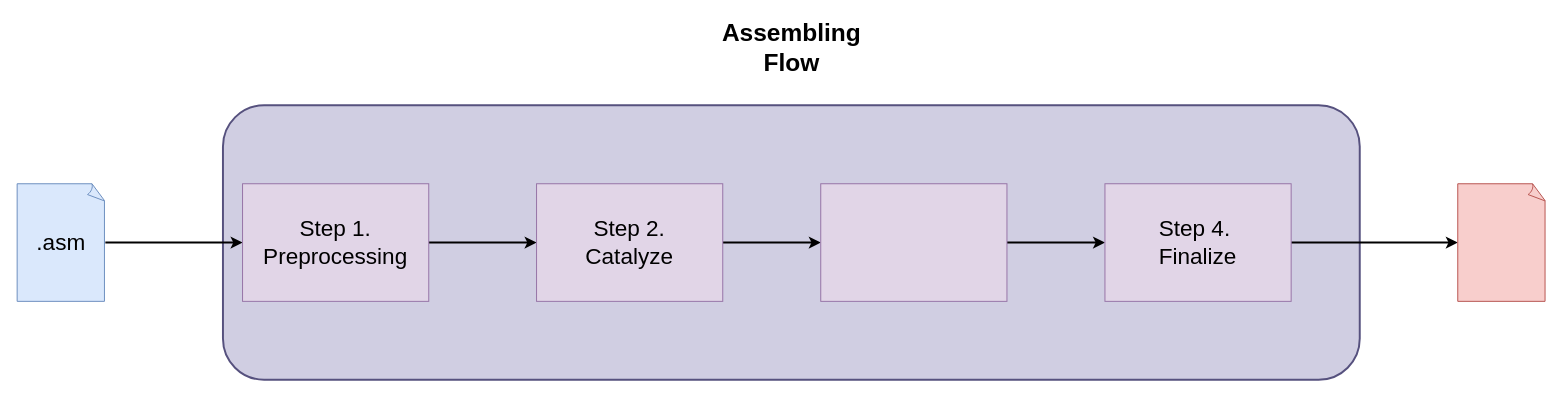
This 1563x397 diagram has some shape labels left out. Here are the shapes that lost their labels. From the top down, the box of each, then its label:
(820, 183, 1007, 301): Step 3. Encoding
(1457, 183, 1546, 301): .bin
